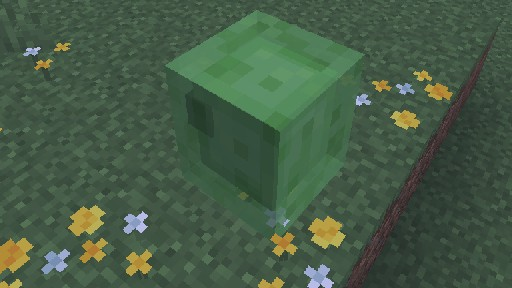slime: (163, 9, 365, 244)
